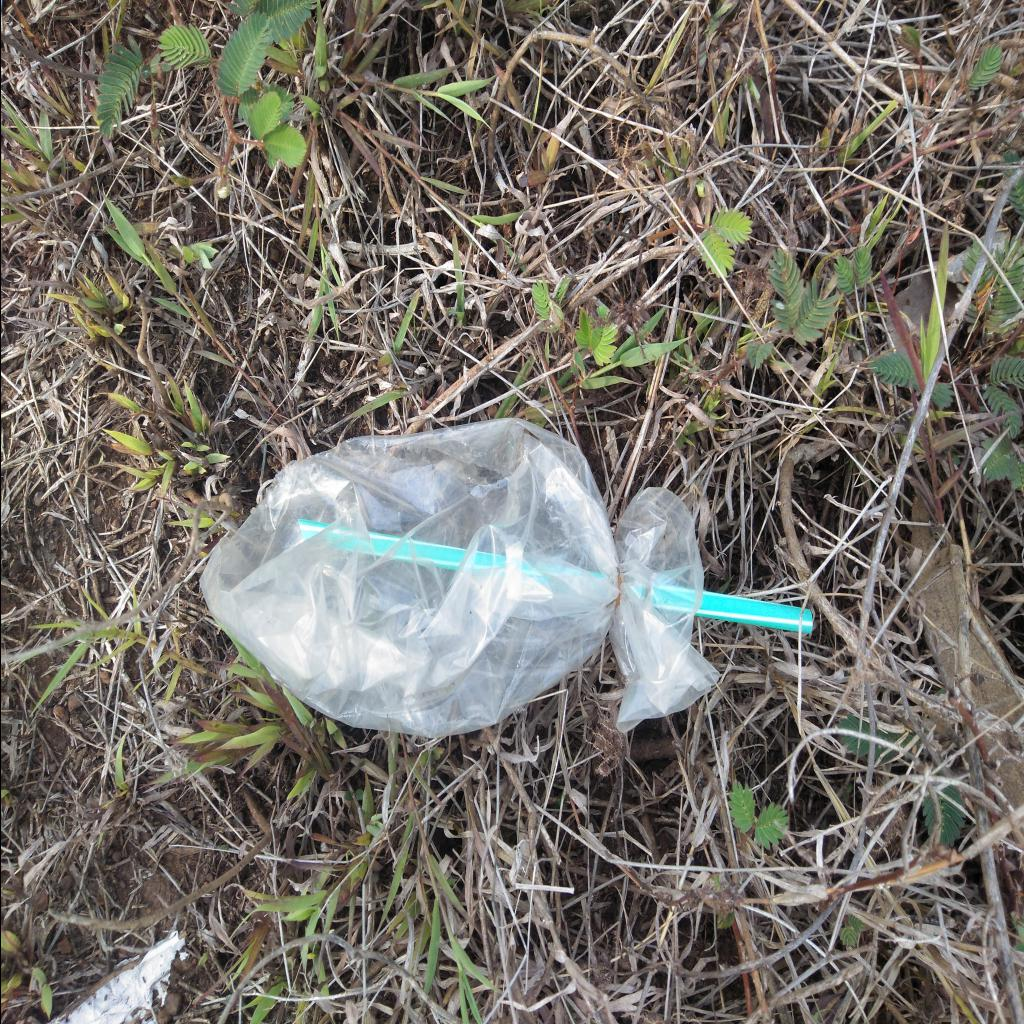Plastic film: (198, 417, 720, 739)
Plastic straw: (298, 518, 812, 634)
